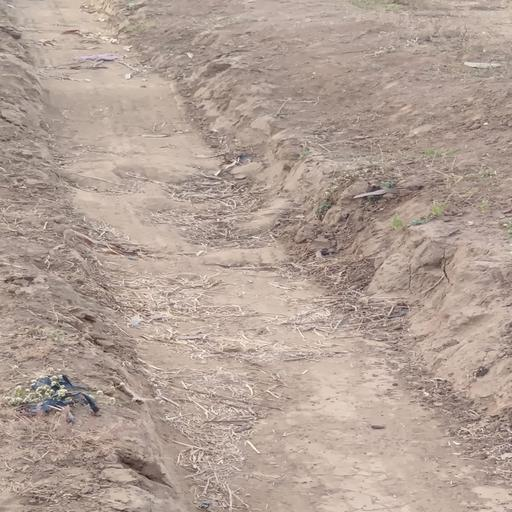vehicle_track: (3, 0, 512, 512)
